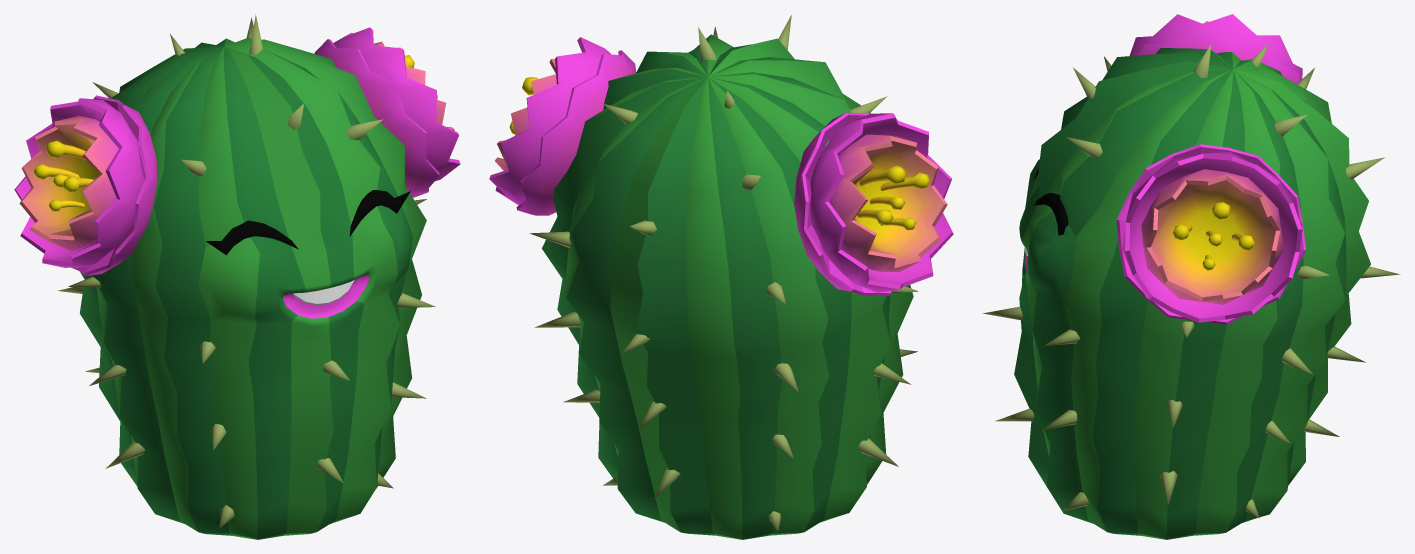
Rendered from cactrish.glb.
3 views of the same model, side by side, from view 1: azimuth 30°, elevation 25°; view 2: azimuth 150°, elevation 25°; view 3: azimuth 270°, elevation 25° (orthographic). The views are drawn at different scales.
Visible parts, largest first — view 1: CACTRISH; view 2: CACTRISH; view 3: CACTRISH.
Boxes of the visible parts, bbox=[...] form: CACTRISH: bbox=[14, 14, 460, 539]; CACTRISH: bbox=[489, 15, 953, 539]; CACTRISH: bbox=[982, 14, 1400, 539].
Bounding box in the file's own units: 1.93 × 2.13 × 1.75.
Materials: 1 (1 with a texture image).
